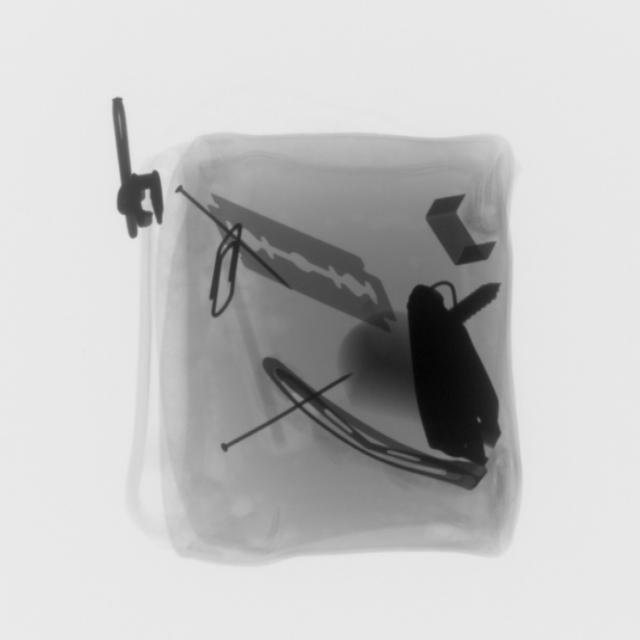BLADE: (208, 195, 403, 335)
